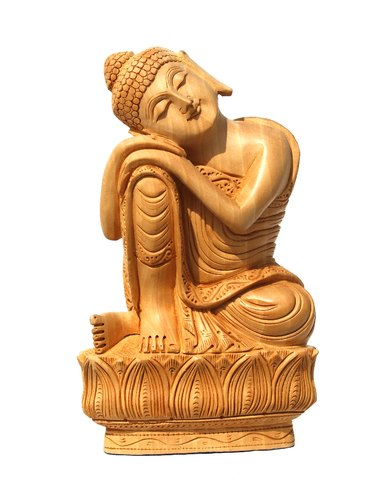person-like: (76, 39, 320, 354)
